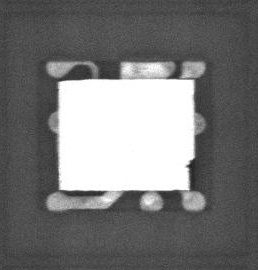DIE_BROKEN: (185, 157, 195, 190), (56, 77, 92, 83)
